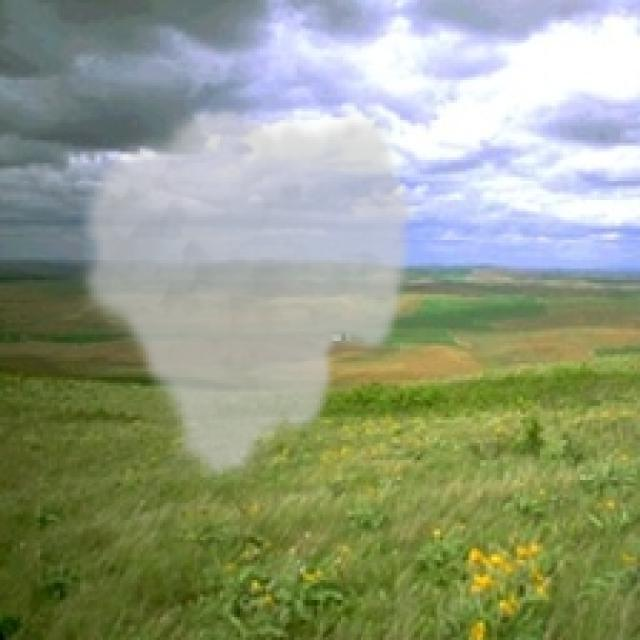Smoke: (72, 102, 417, 488)
